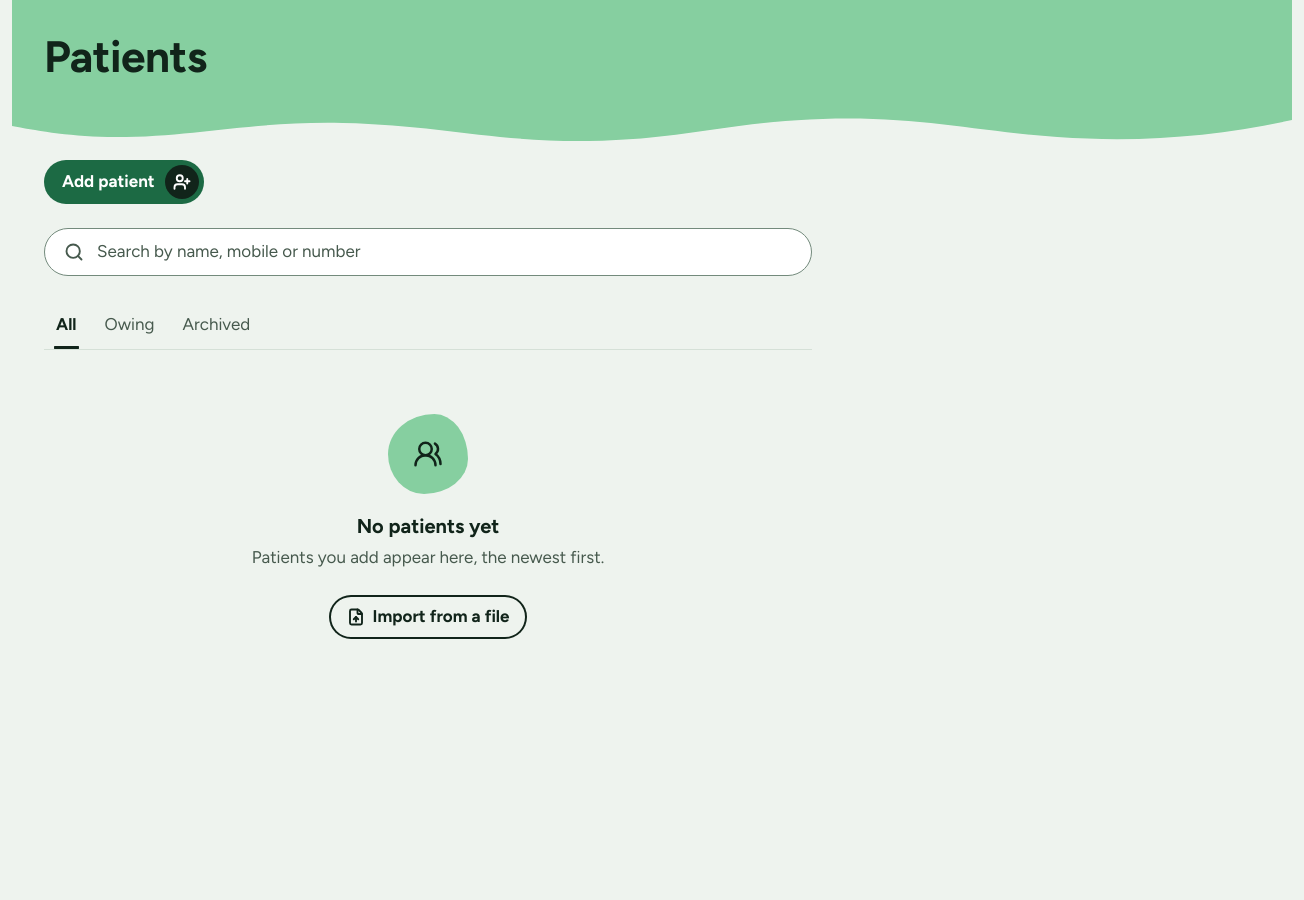
Test case: Patients' archived tab (plan §10.2) › says when none are archived, and offers no add from a search there
The width and height of the screenshot is (1304, 900).
Click the tab "Archived" at [216, 325], box [170, 300, 262, 349]
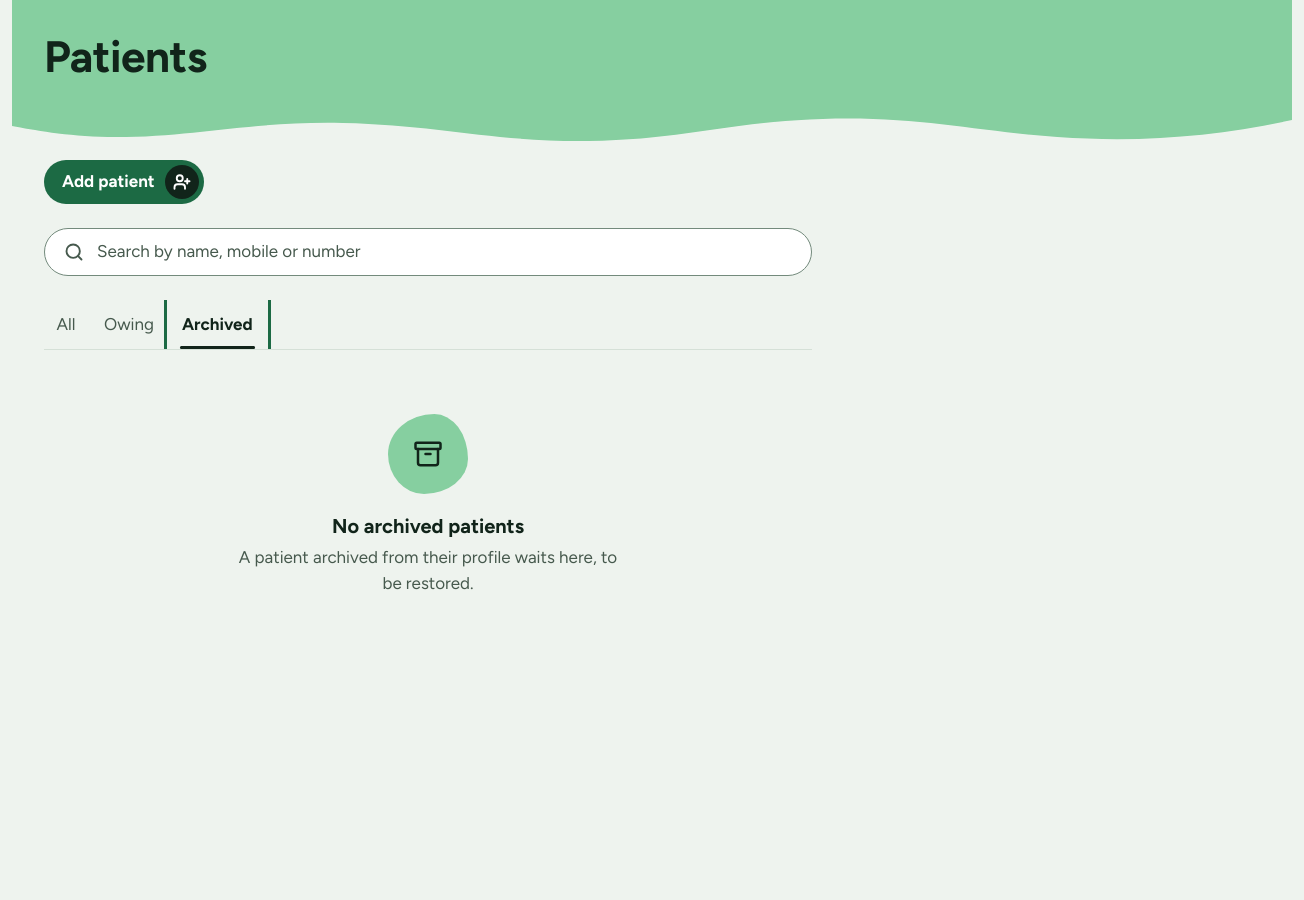
Expected: the heading "No archived patients" is shown, [332, 514, 524, 539]
Type "Kabir" into the search field at [428, 252], box [44, 228, 812, 276]
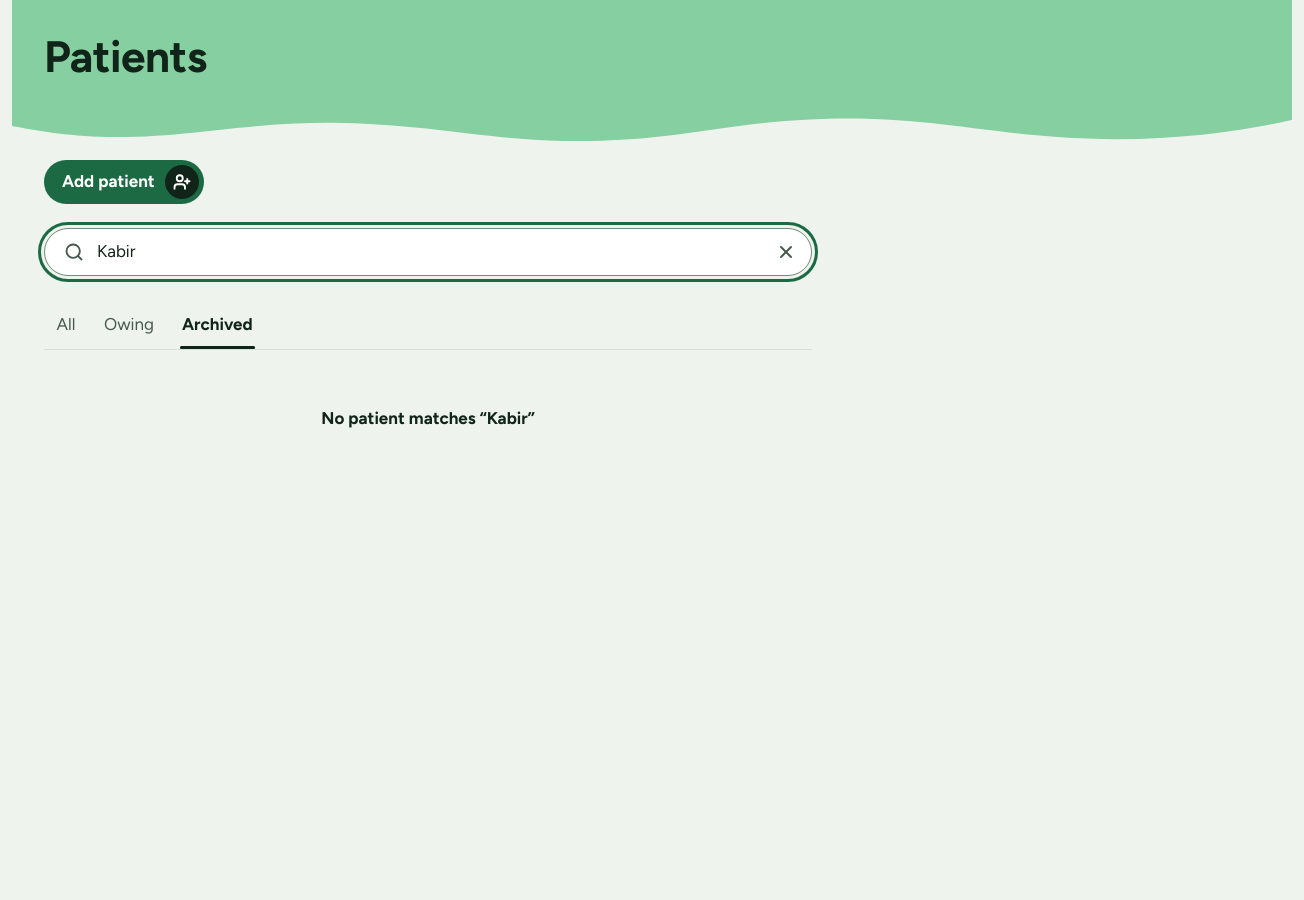
Expected: the number of buttons "Add patient" is 1, [44, 160, 204, 204]
Expected: the text "No patient matches “Kabir”" is shown, [321, 406, 535, 432]
